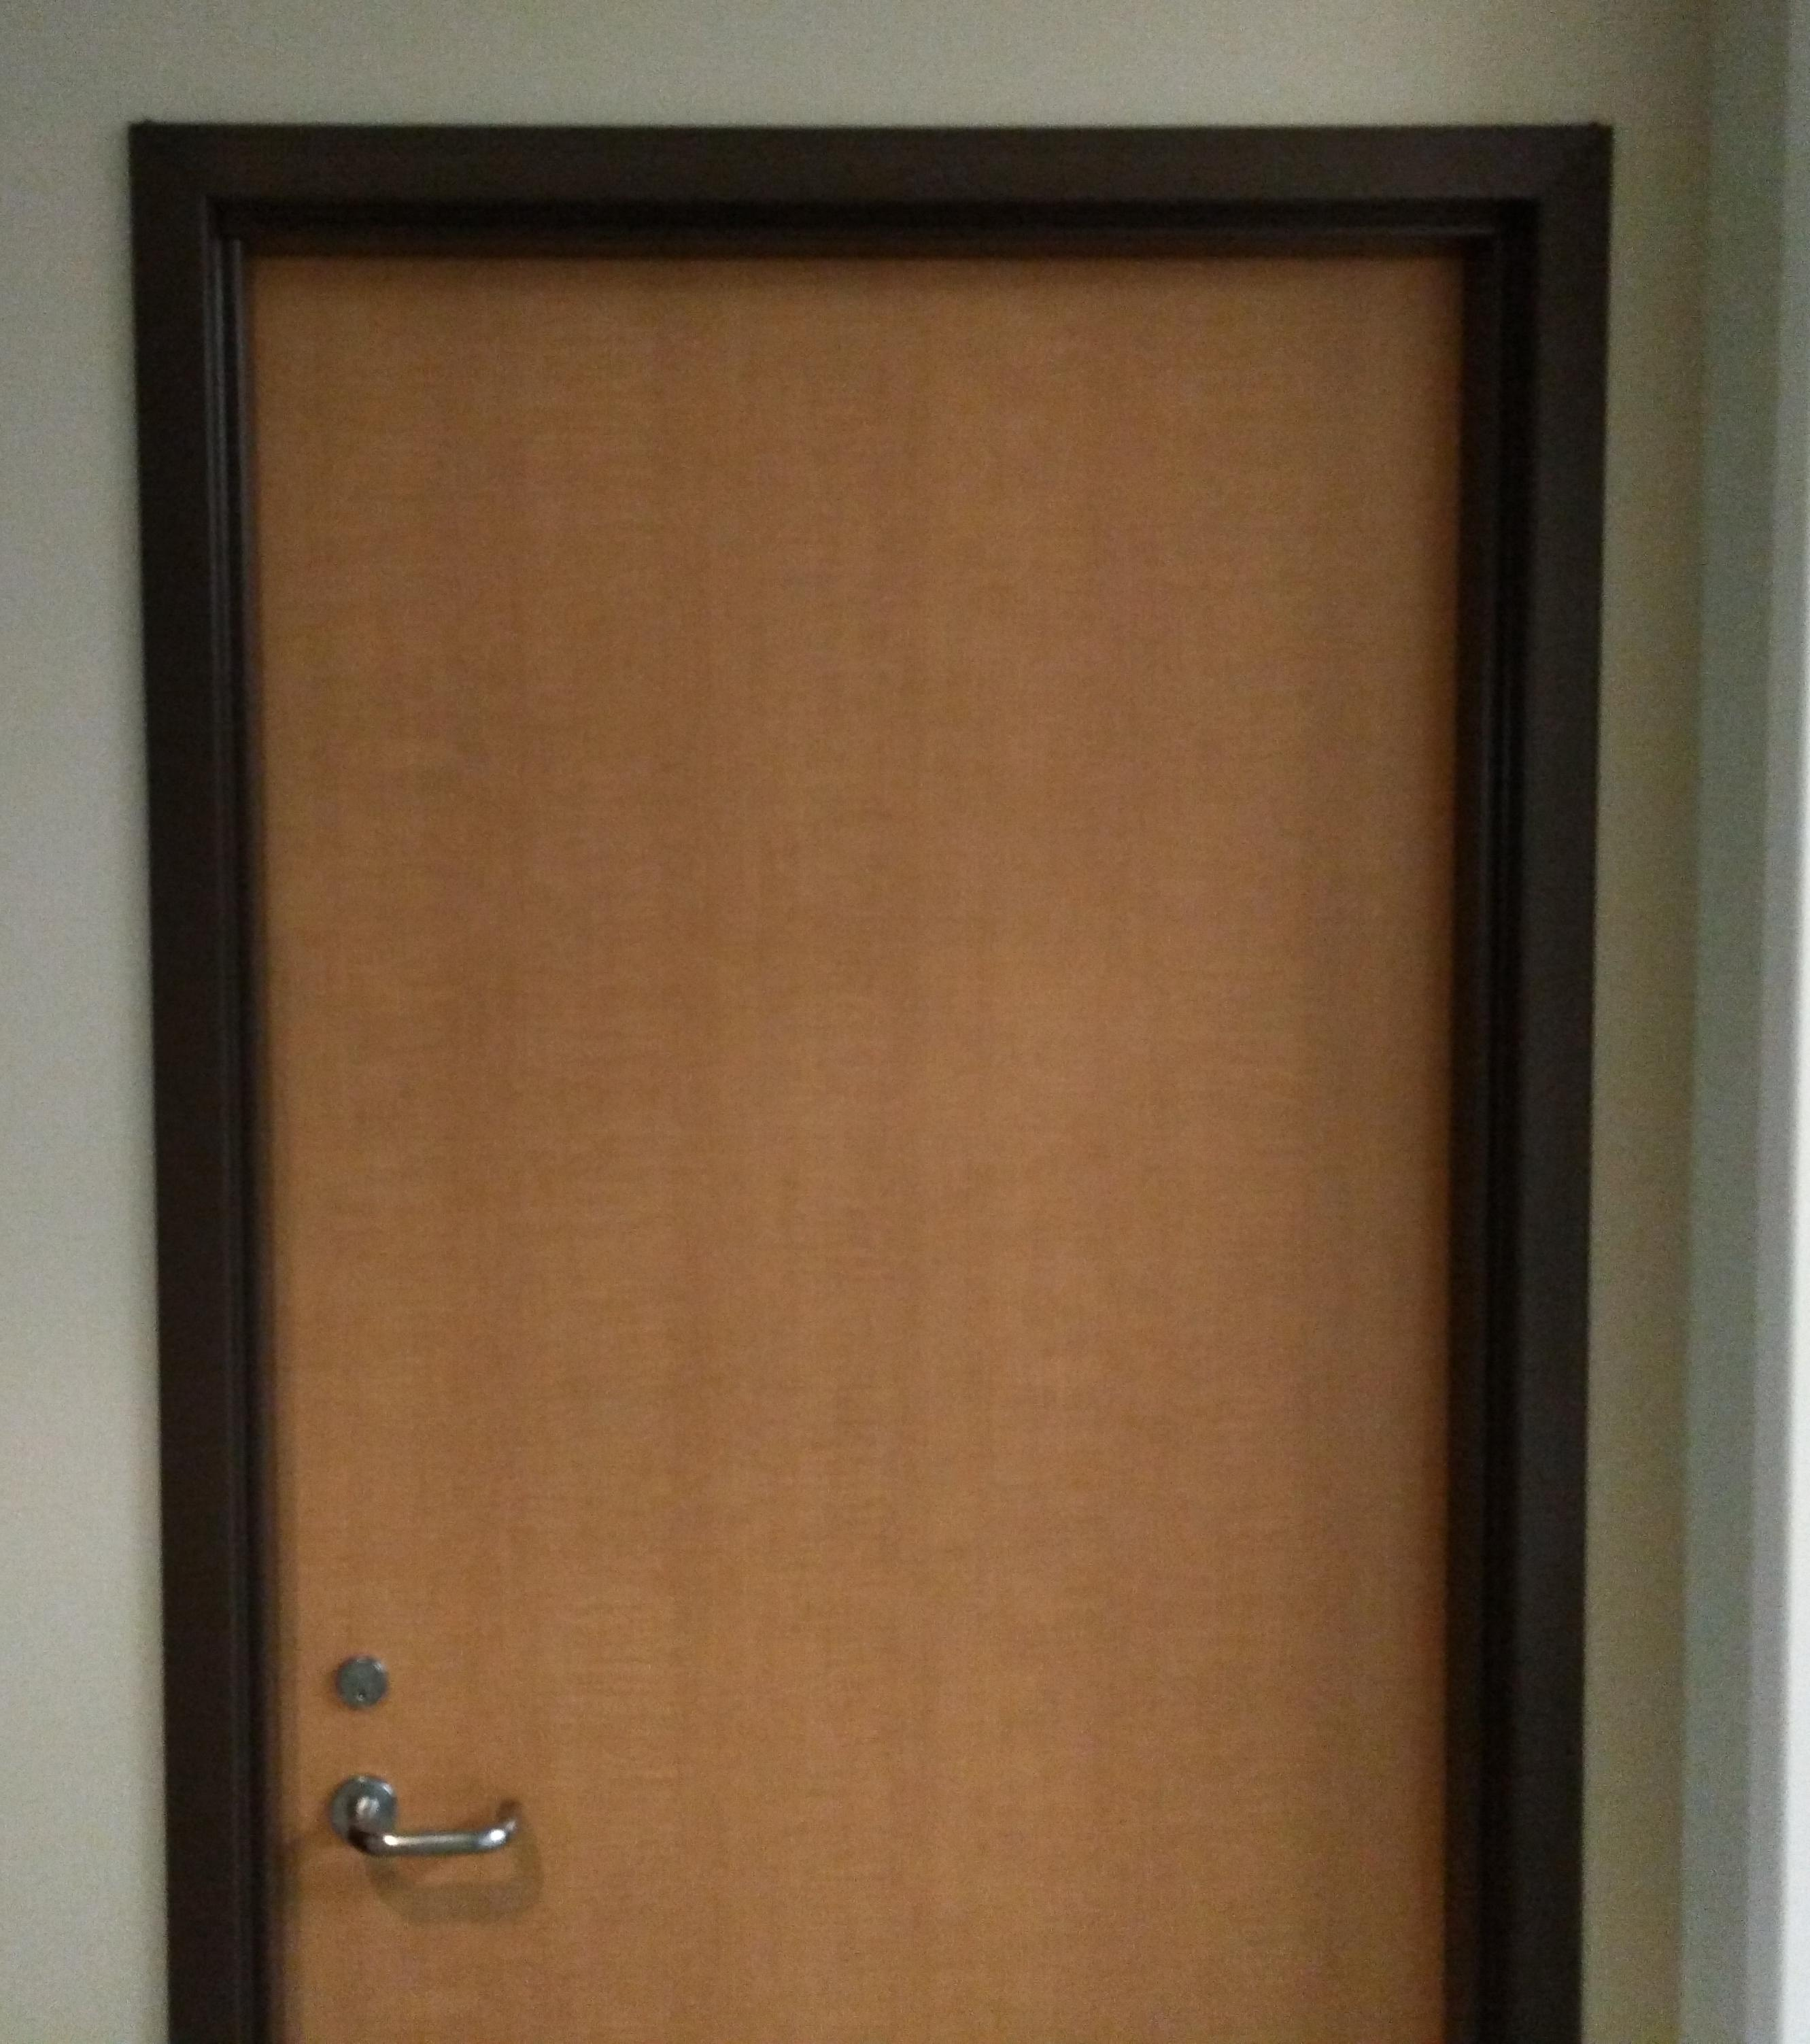door: (180, 164, 1539, 2044)
